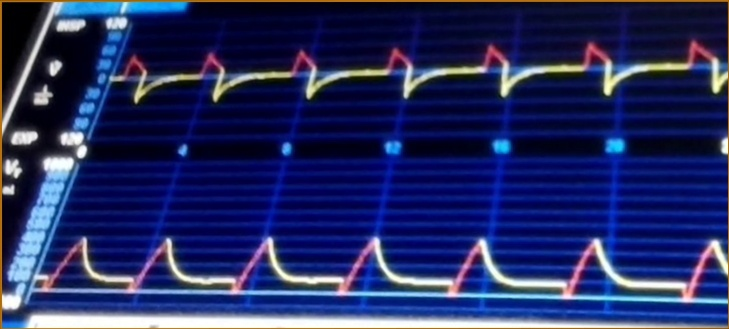Flow: (120, 27, 729, 133)
Leakage Volume: (41, 225, 729, 309)
